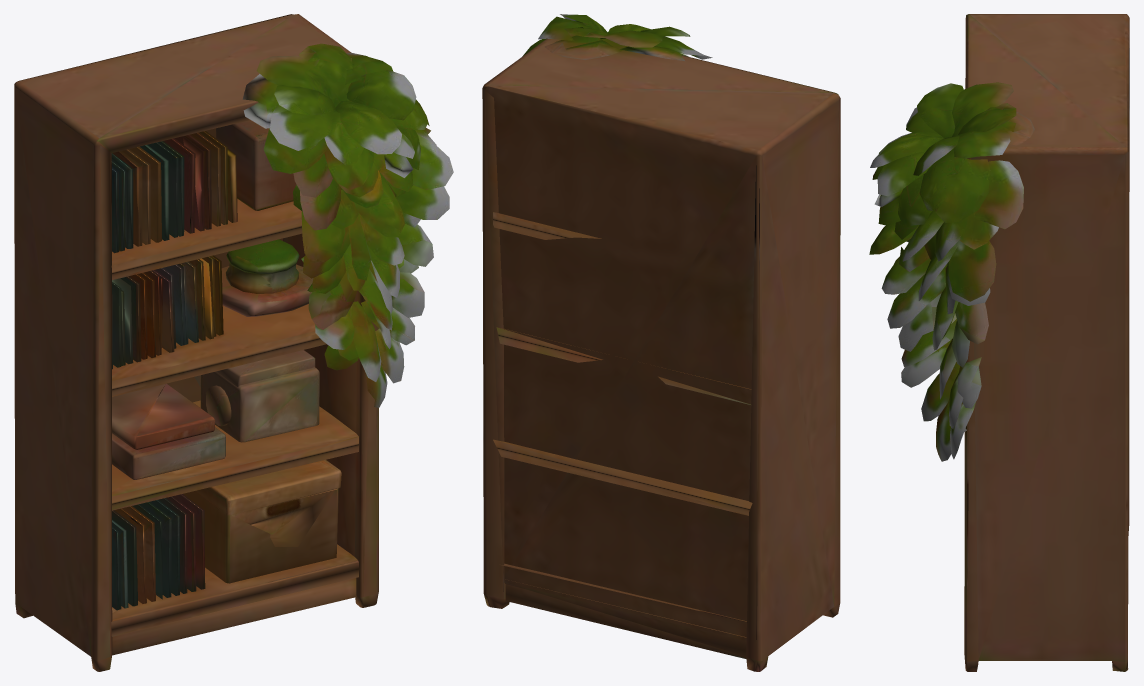
File: bookcase.starter.glb
3 views of the same model, side by side, from view 1: azimuth 30°, elevation 25°; view 2: azimuth 150°, elevation 25°; view 3: azimuth 270°, elevation 25° (orthographic). The views are drawn at different scales.
Parts seen in each view (by area): view 1: geometry_0; view 2: geometry_0; view 3: geometry_0.
Part boxes in pixels (left/top/right/bottom): geometry_0: left=14, top=14, right=453, bottom=671; geometry_0: left=482, top=14, right=840, bottom=671; geometry_0: left=869, top=14, right=1129, bottom=671.
Bounding box in the file's own units: 0.6454 × 1 × 0.4345.
Materials: 1 (1 with a texture image).
